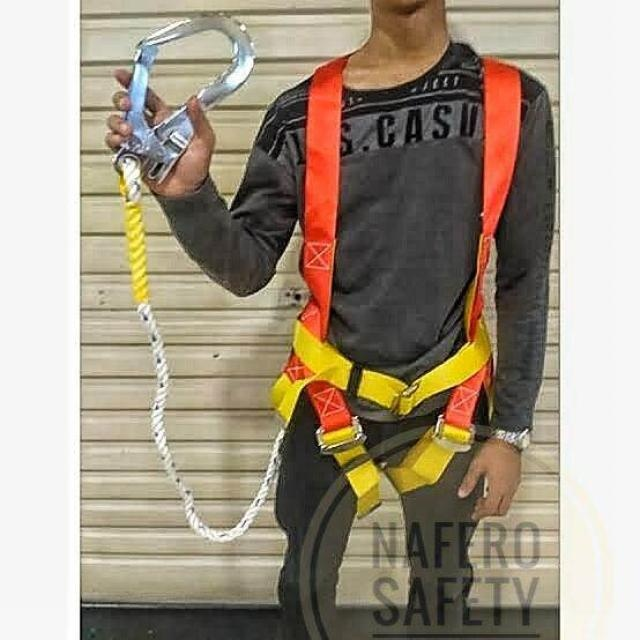Arnes_seguridad: (294, 52, 520, 493)
